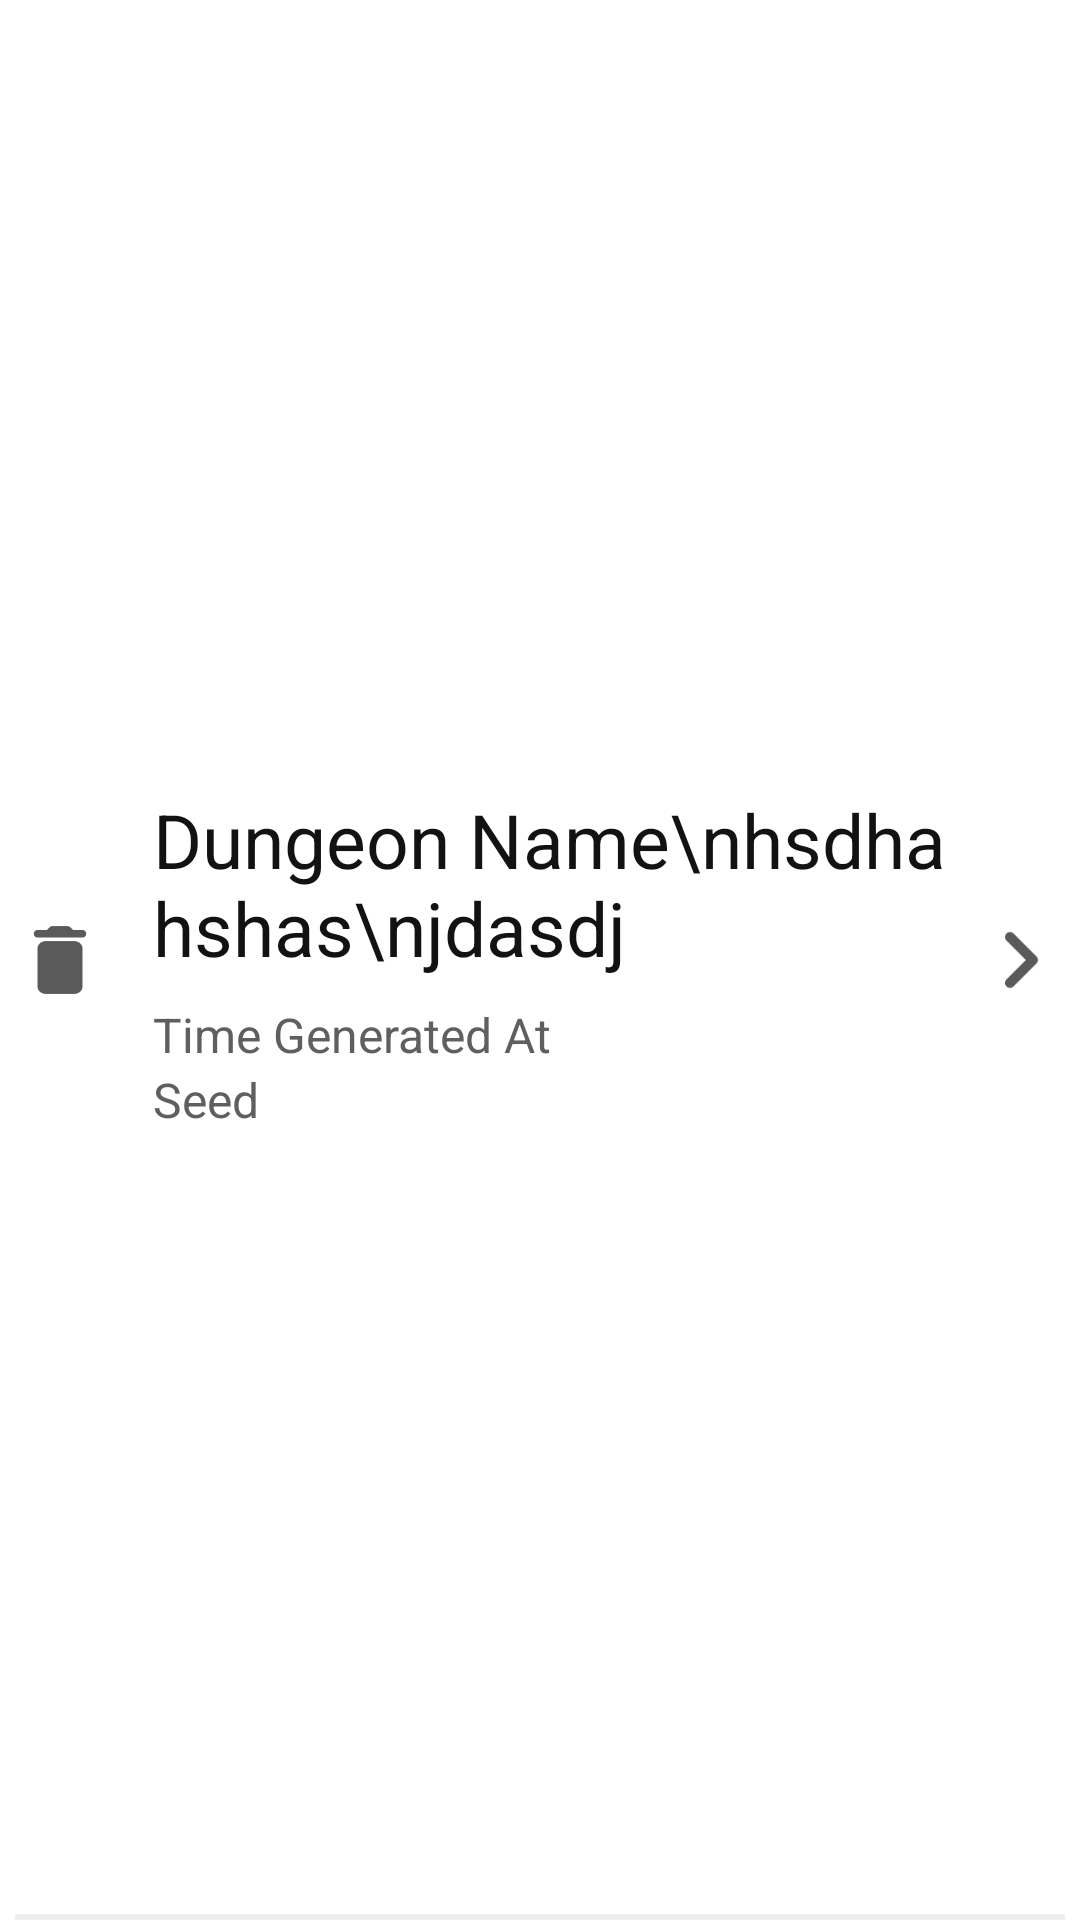

Where icons sit on this 1080 x 1920 app screen, as (x1, y1, x2, y2):
delete: (34, 926, 86, 994)
